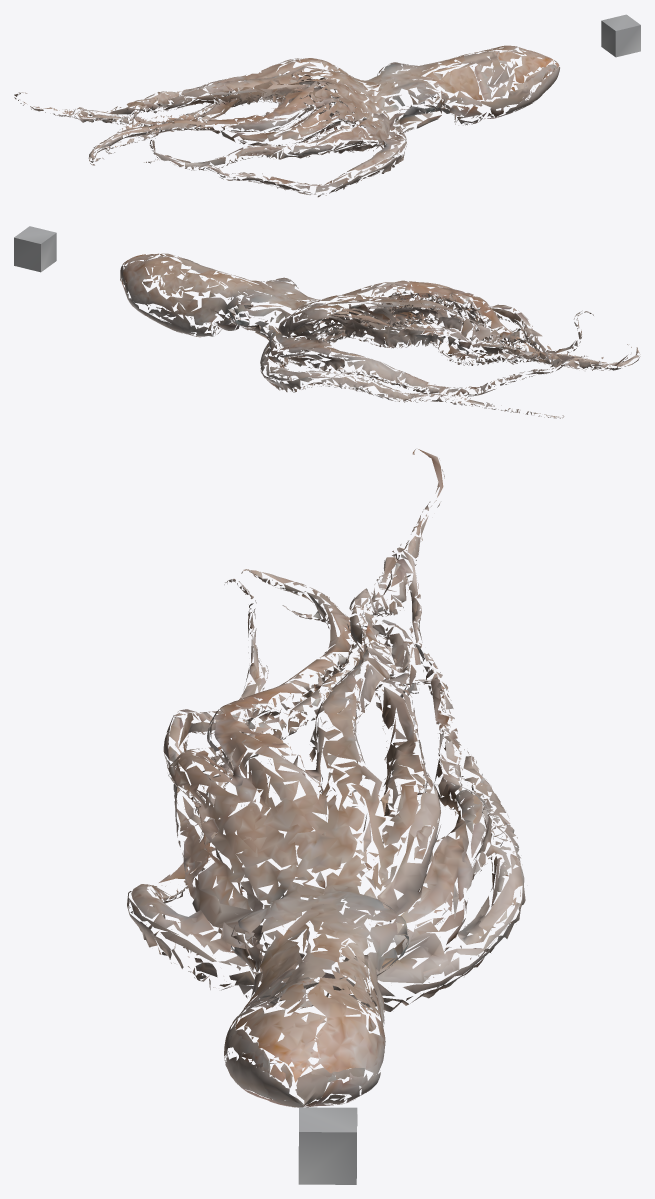
File: fauna-giant-pacific-octopus.glb
The picture shows the model from 3 angles, top to bottom: view 1: azimuth 30°, elevation 25°; view 2: azimuth 150°, elevation 25°; view 3: azimuth 270°, elevation 25°; orthographic projection. The views are drawn at different scales.
Parts seen in each view (by area): view 1: Q11714-1all-2_5, Cube_2; view 2: Q11714-1all-2_5, Cube_2; view 3: Q11714-1all-2_5, Cube_2.
Part boxes in pixels (box(x1,y1,x2,y2)): Q11714-1all-2_5: box(14, 45, 559, 197); Cube_2: box(601, 14, 640, 57); Q11714-1all-2_5: box(120, 253, 640, 418); Cube_2: box(14, 226, 56, 272); Q11714-1all-2_5: box(127, 449, 525, 1107); Cube_2: box(298, 1107, 357, 1184).
Bounding box in the file's own units: 14.04 × 2.62 × 4.11.
